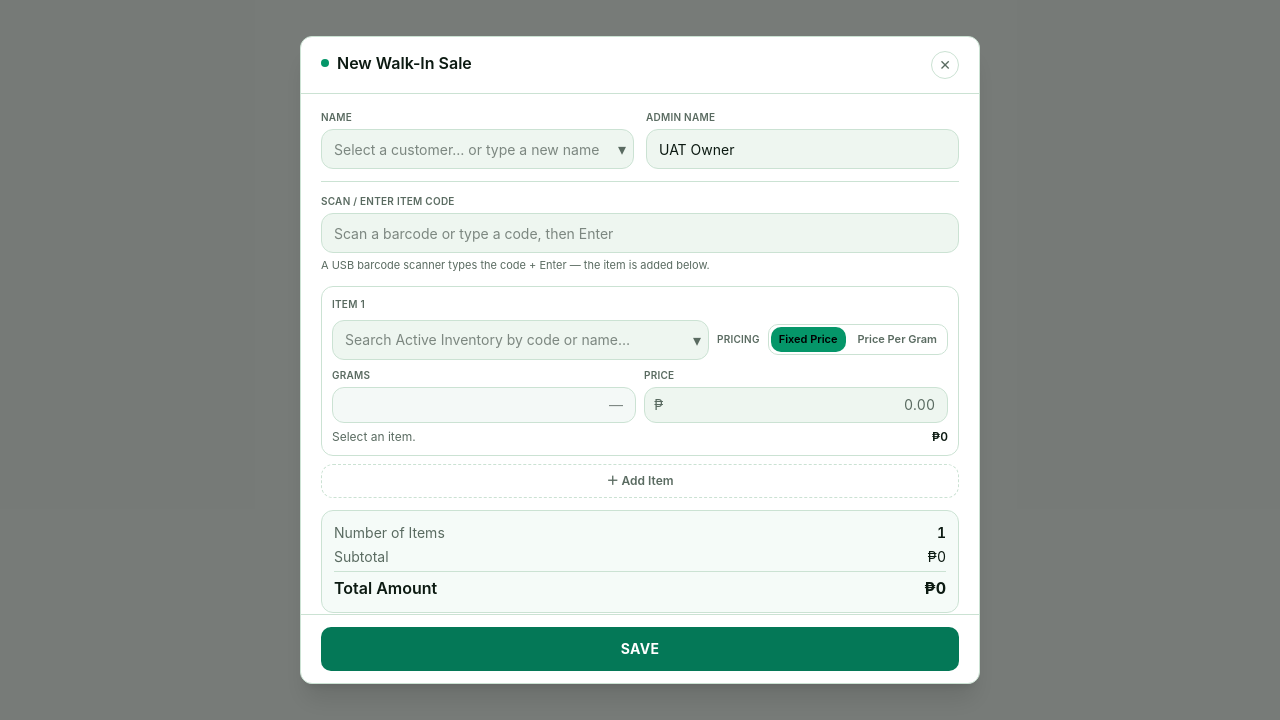
Test case: NewOrderWorkflow — multi-item form › Walk In: auto-detects grams from the code when the stored weight is blank
Step 1. Type "SBA-R-5110 1.20g 7\"" into the dropdown with placeholder "Search Active Inventory by code or name…" → [520, 340], box [332,320,709,360]
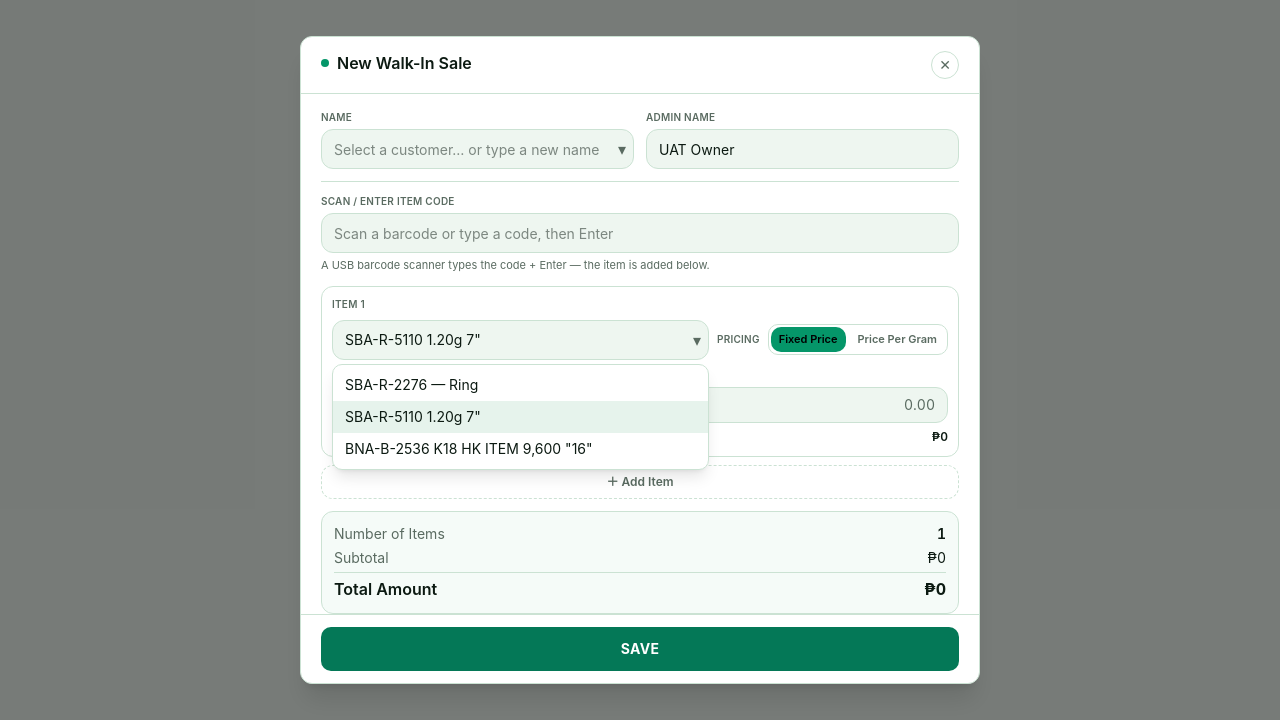
Now the field with test id "order-item-grams-0" holds "1.20", box [332,386,636,422]
